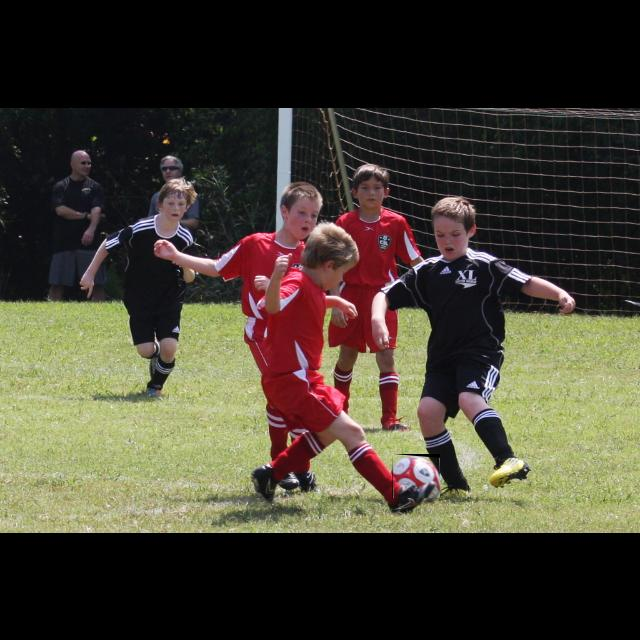Football: (392, 454, 440, 498)
